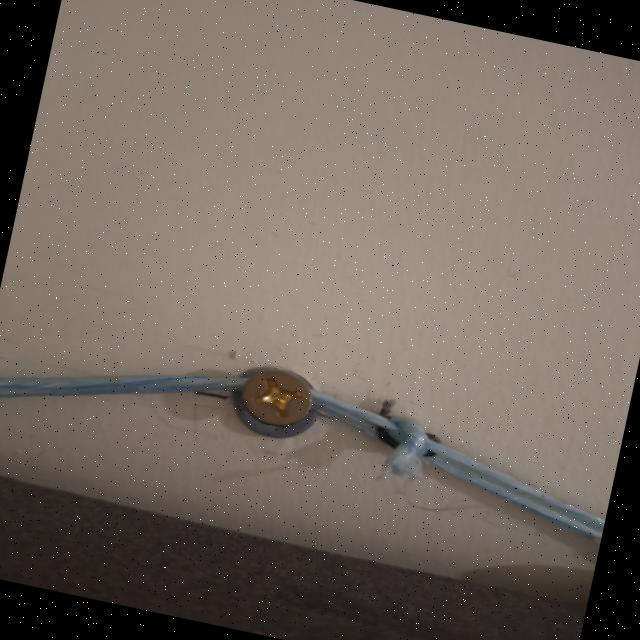Phillips: (236, 365, 312, 426)
